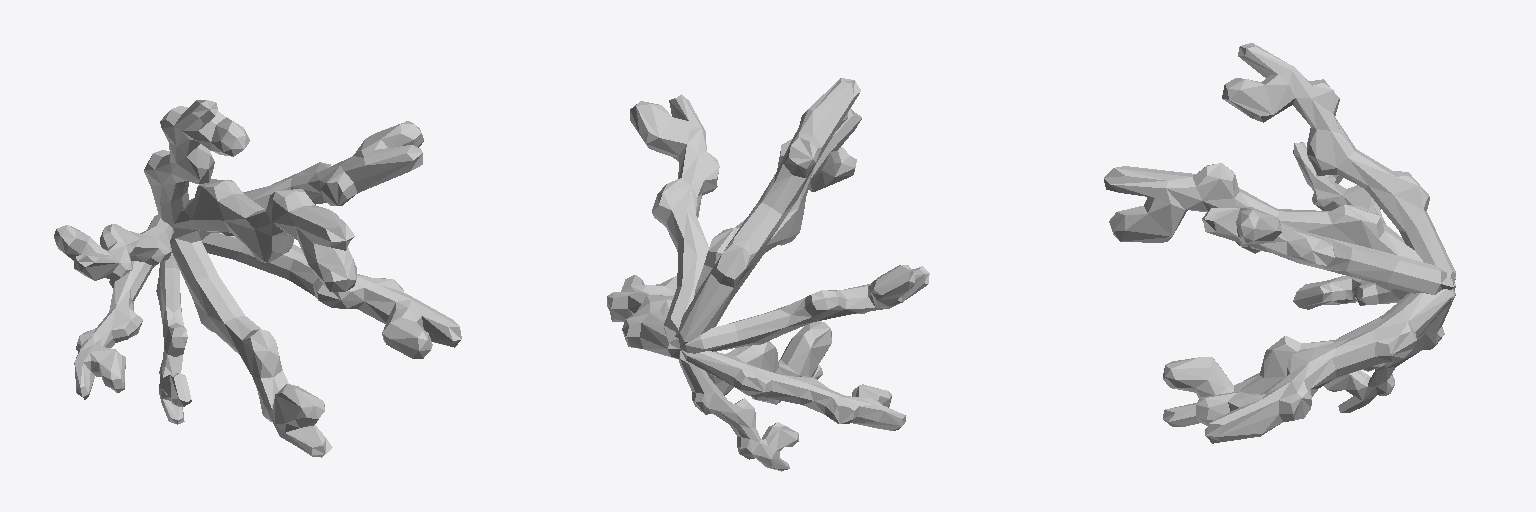
The model's file is tree.obj.
The picture shows the model from 3 angles: view 1: azimuth 30°, elevation 25°; view 2: azimuth 150°, elevation 25°; view 3: azimuth 270°, elevation 25°; orthographic projection.
Parts seen in each view (by area): view 1: Object.1, Object.3, Object.4, Object.7, Object.6, Object.8, Object.2, Object.5; view 2: Object.7, Object.6, Object.2, Object.8, Object.5, Object.1, Object.4, Object.3; view 3: Object.7, Object.4, Object.1, Object.6, Object.3, Object.5, Object.8, Object.2.
Part boxes in pixels (bbox=[...]): Object.1: bbox=[172, 179, 356, 291]; Object.3: bbox=[170, 238, 332, 457]; Object.4: bbox=[201, 233, 461, 358]; Object.7: bbox=[144, 100, 249, 228]; Object.6: bbox=[212, 121, 423, 235]; Object.8: bbox=[74, 261, 154, 399]; Object.2: bbox=[54, 214, 173, 280]; Object.5: bbox=[156, 253, 191, 424]; Object.7: bbox=[675, 78, 860, 347]; Object.6: bbox=[630, 94, 719, 348]; Object.2: bbox=[681, 265, 929, 353]; Object.8: bbox=[681, 350, 905, 430]; Object.5: bbox=[679, 351, 798, 471]; Object.1: bbox=[694, 108, 861, 326]; Object.4: bbox=[607, 275, 680, 359]; Object.3: bbox=[678, 321, 831, 404]; Object.7: bbox=[1222, 43, 1455, 283]; Object.4: bbox=[1196, 289, 1453, 443]; Object.1: bbox=[1104, 163, 1422, 261]; Object.6: bbox=[1202, 206, 1453, 294]; Object.3: bbox=[1163, 293, 1411, 426]; Object.5: bbox=[1324, 289, 1455, 412]; Object.8: bbox=[1293, 276, 1455, 309]; Object.2: bbox=[1293, 142, 1455, 284].
Size of the model in its own units: 132 by 130 by 116.